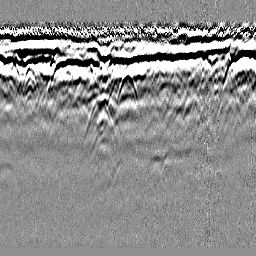cavity: (115, 68, 139, 103)
